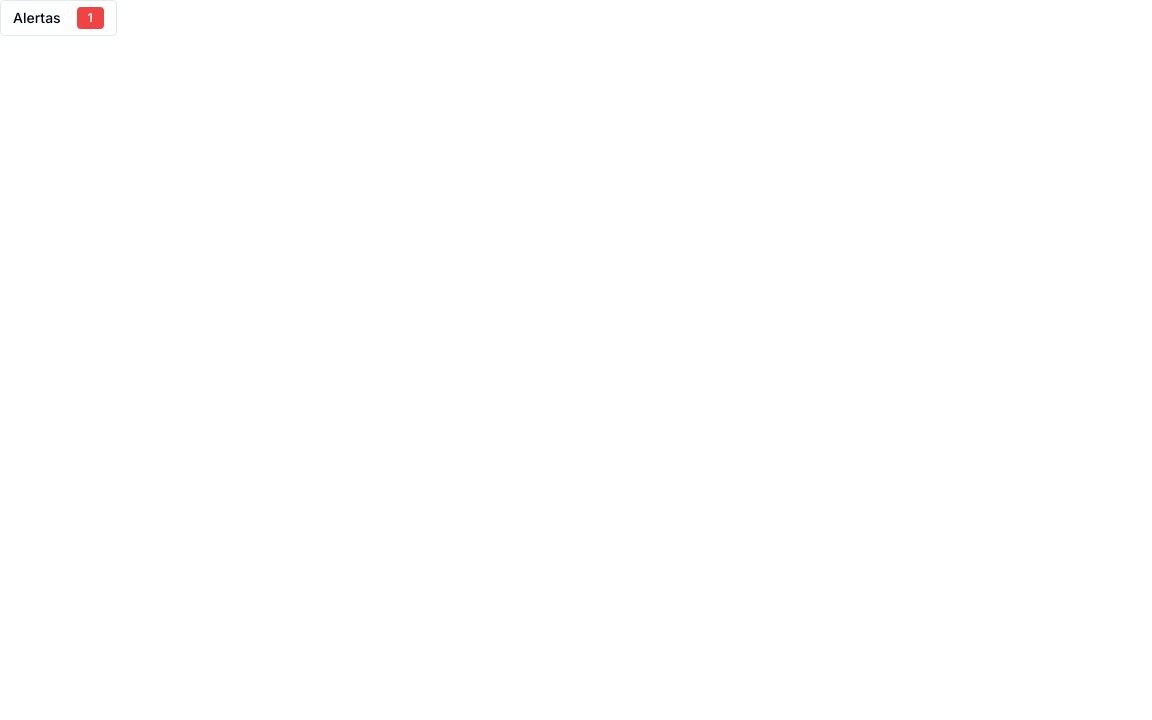
it: AlertsDrawer (P6.2) › renderiza lista de alertas abertos e chama ack ao clicar em Reconhecer
Later steps or results of the test are not shown.
Click the button with aria-label "abrir alertas" at (58, 18), box [0,0,117,36]
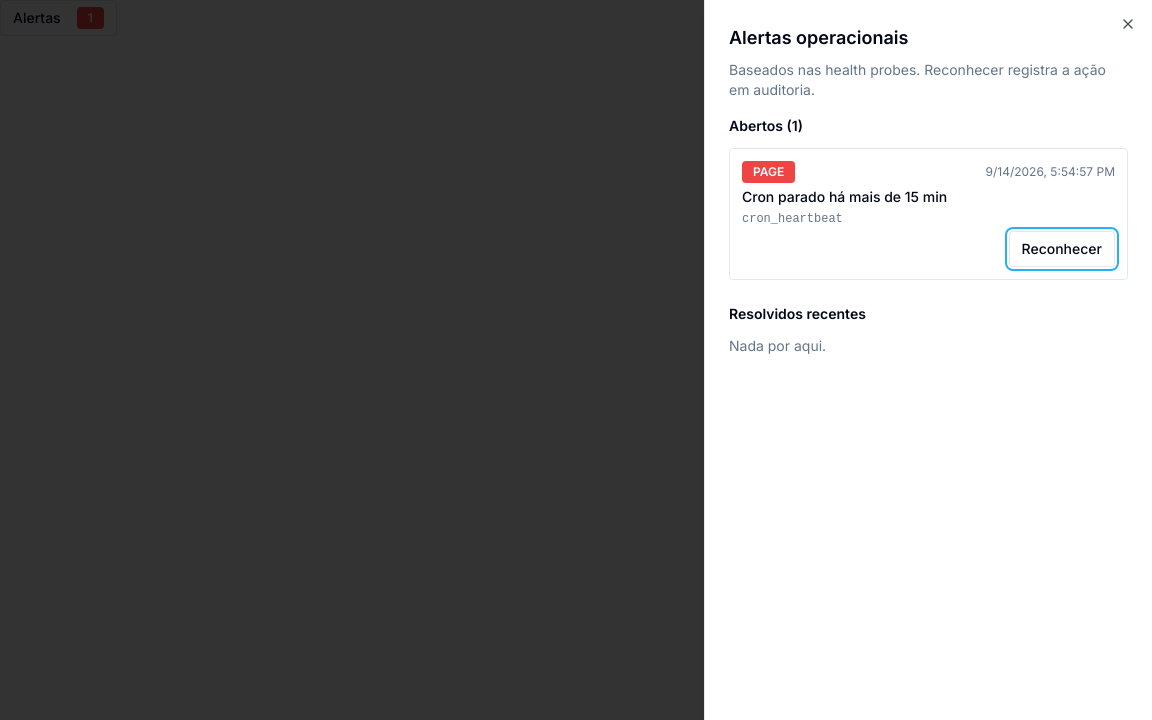
Now the list with test id "alerts-open-list" is shown, box [729,148,1128,280]
